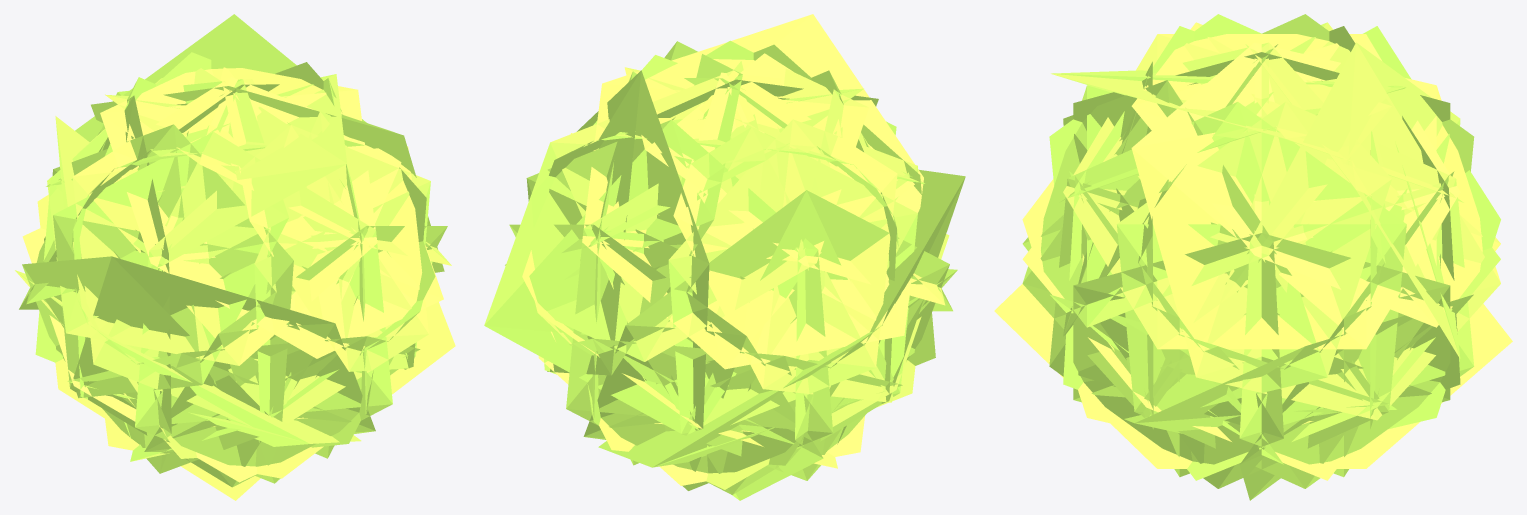
File: estrelladarks1.glb
The picture shows the model from 3 angles, left to right: view 1: azimuth 30°, elevation 25°; view 2: azimuth 150°, elevation 25°; view 3: azimuth 270°, elevation 25°; orthographic projection. The views are drawn at different scales.
Parts seen in each view (by area): view 1: Icosphere; view 2: Icosphere; view 3: Icosphere.
Boxes of the visible parts, left/top/right/bottom form: Icosphere: left=15, top=14, right=455, bottom=500; Icosphere: left=484, top=14, right=965, bottom=500; Icosphere: left=994, top=14, right=1512, bottom=500.
Bounding box in the file's own units: 11.86 × 13.32 × 12.95.
